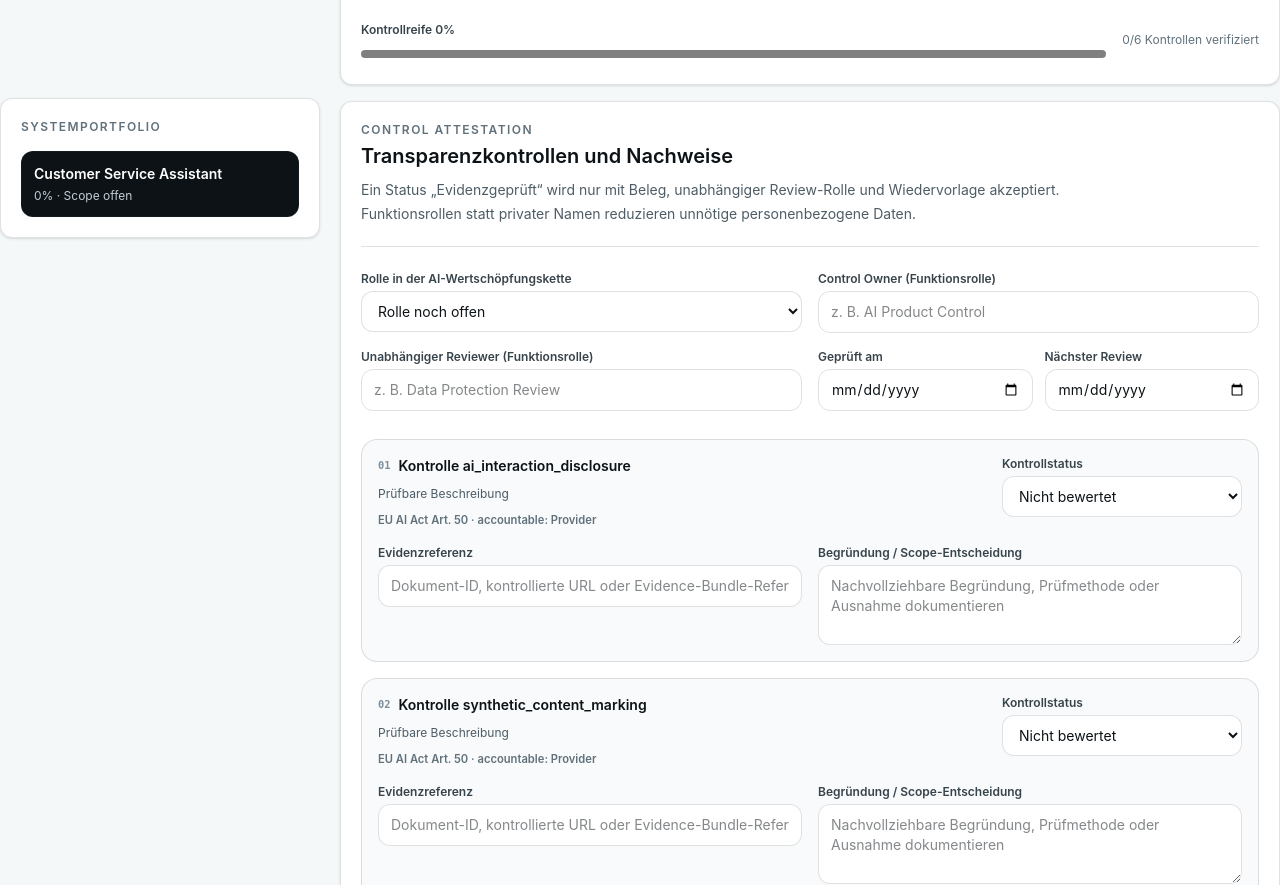
Test: TransparencyAssuranceWorkspace › requires both control owner and reviewer before verification
(page scrolled)
Select "Evidenzgeprüft" in the 1st dropdown labelled "Kontrollstatus" at (1122, 496), box 1002,476 -> 1242,517
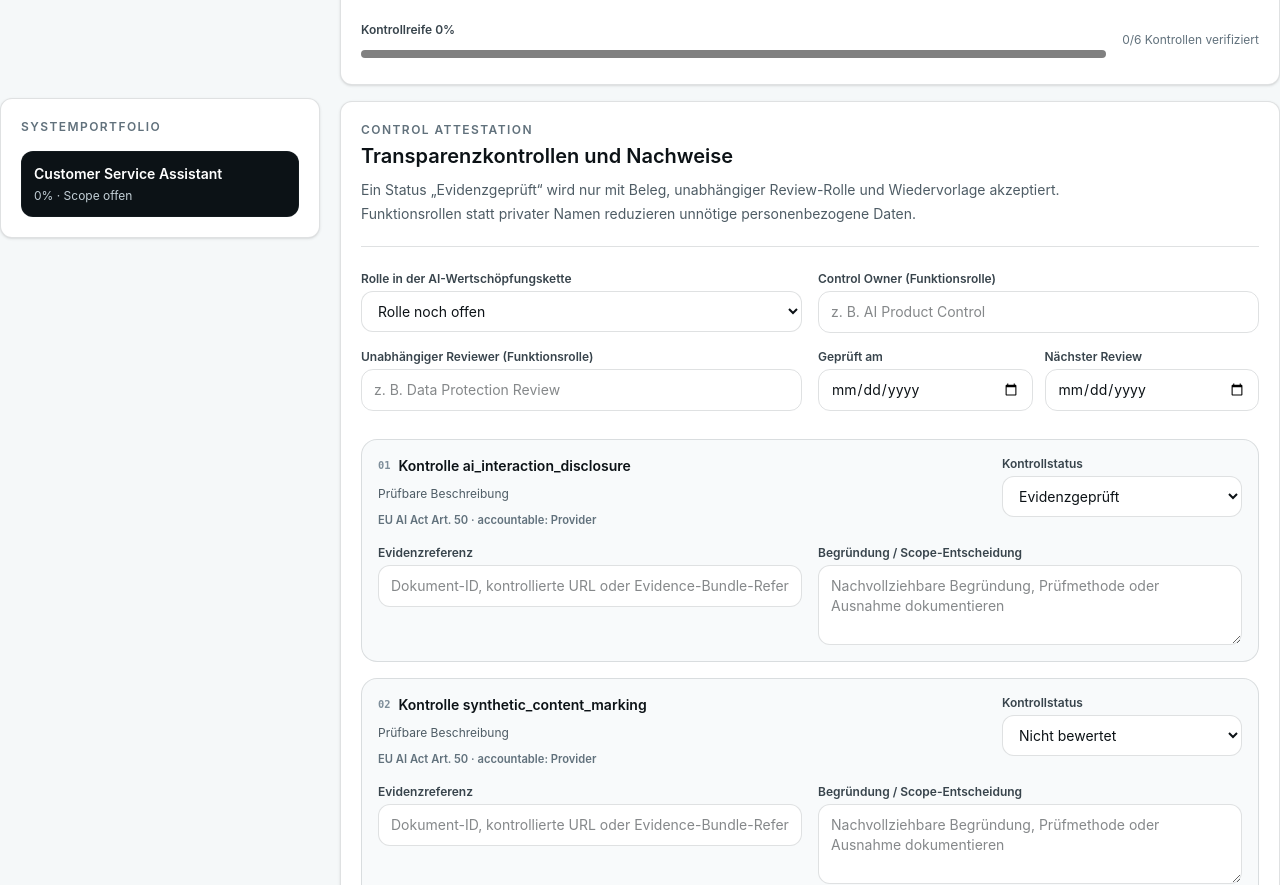
Type "evidence://interaction-notice/v1" into the field labelled "Evidenzreferenz" below "Kontrolle ai_interaction_disclosure" at (590, 586), box 378,565 -> 802,607
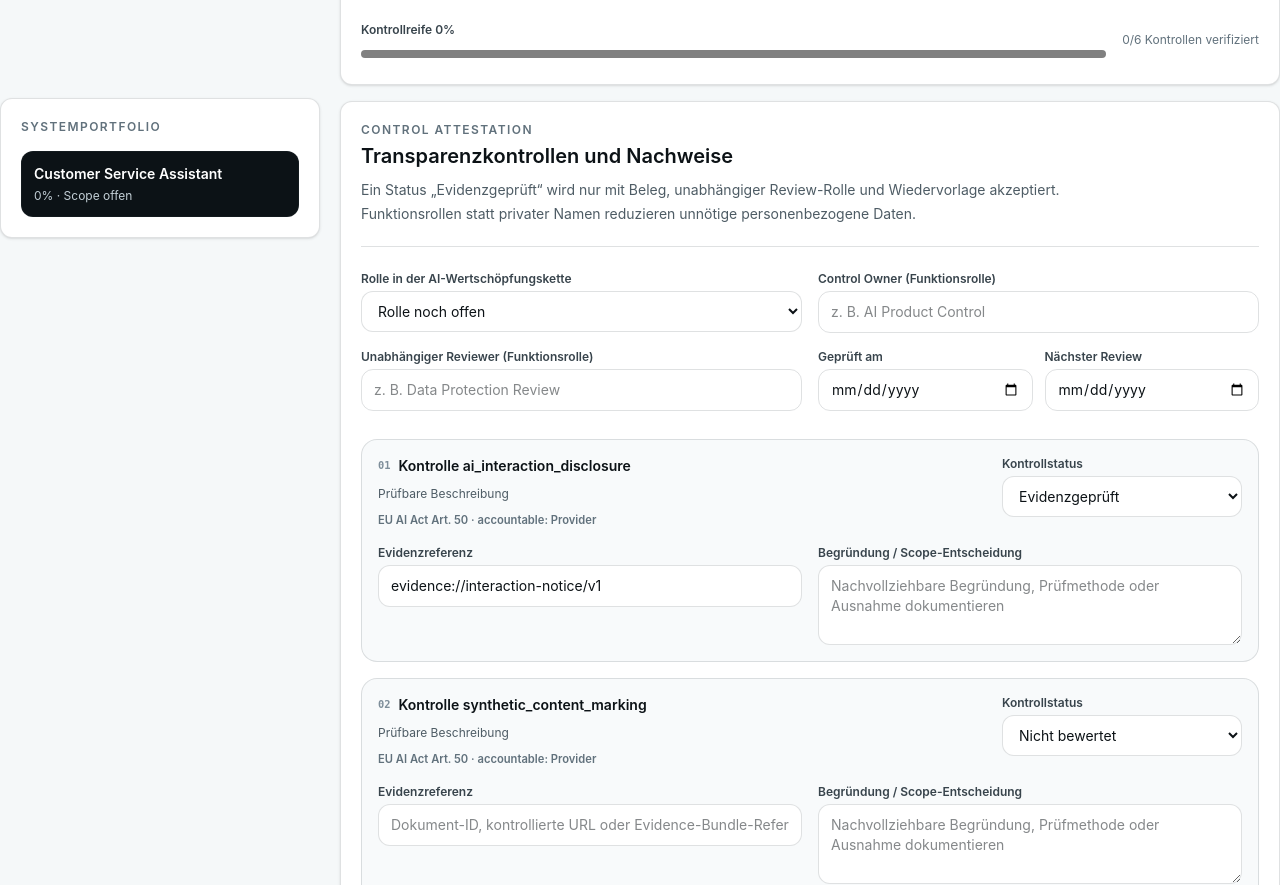
Select "Provider" in the dropdown labelled "Rolle in der AI-Wertschöpfungskette" at (582, 312), box 361,291 -> 802,332
(page scrolled)
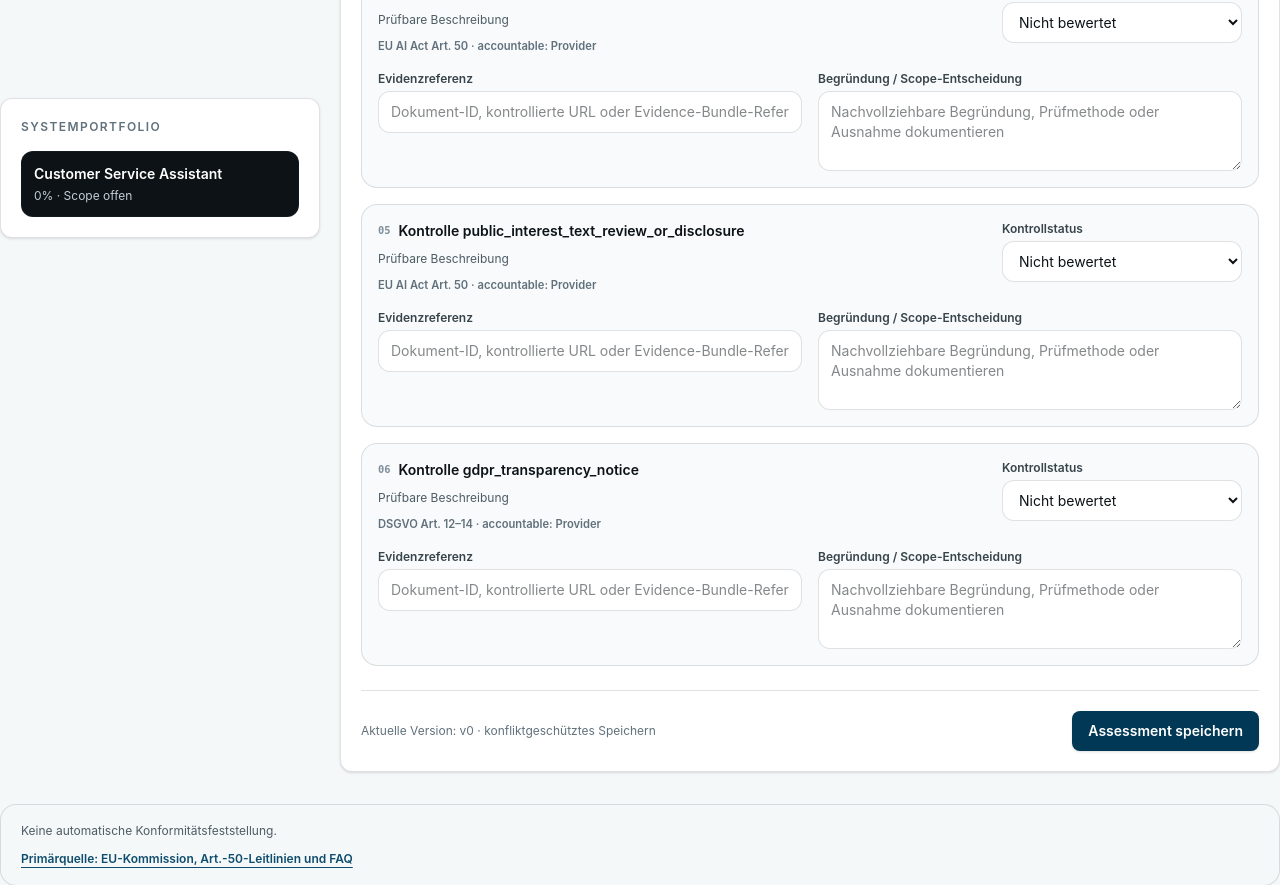
Click the button "Assessment speichern" at (1166, 731), box 1072,711 -> 1259,751
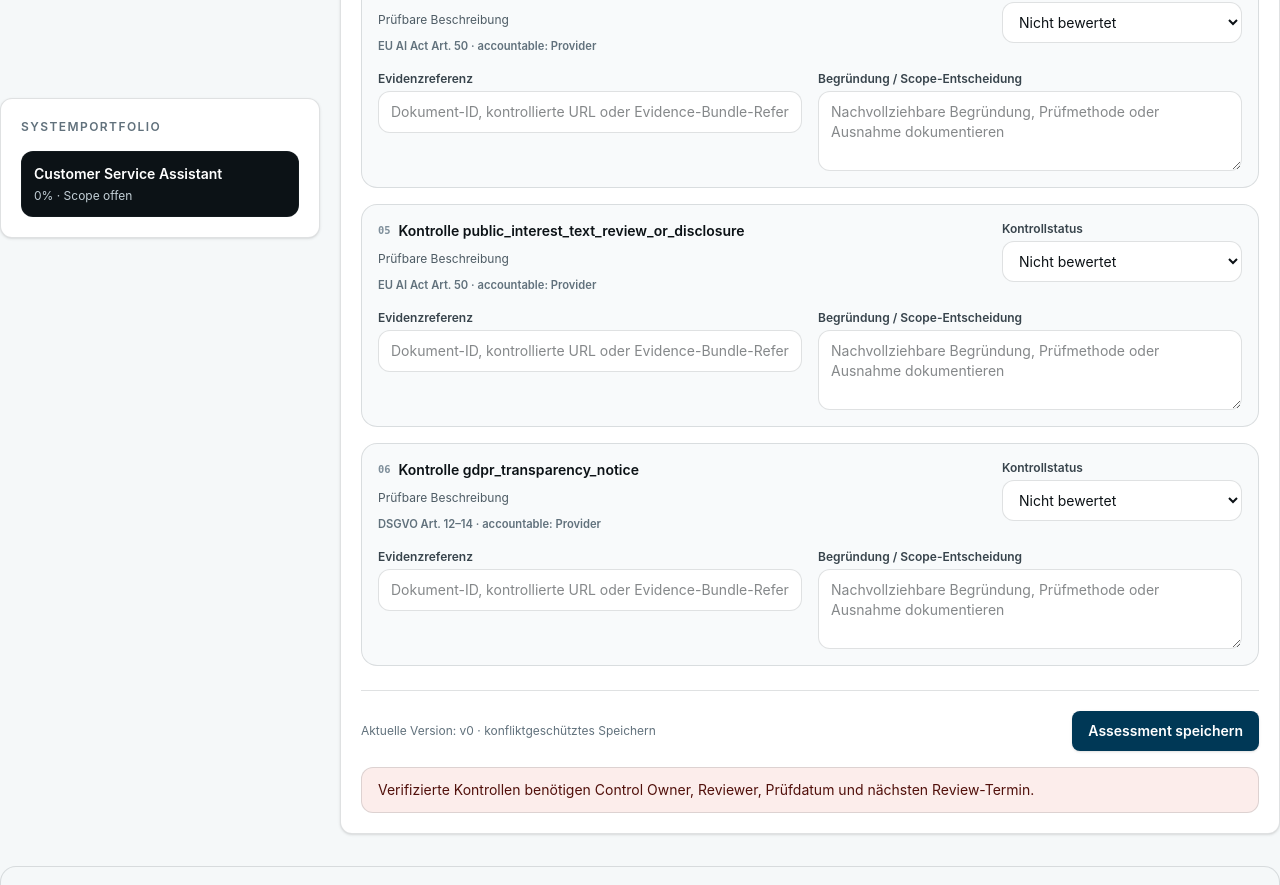
Expected: the message shows "Control Owner, Reviewer", 378,781 -> 1034,798
